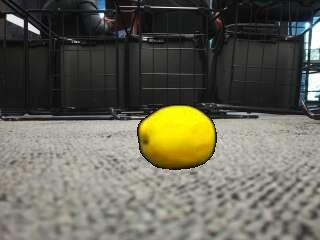lemon: (140, 105, 216, 169)
